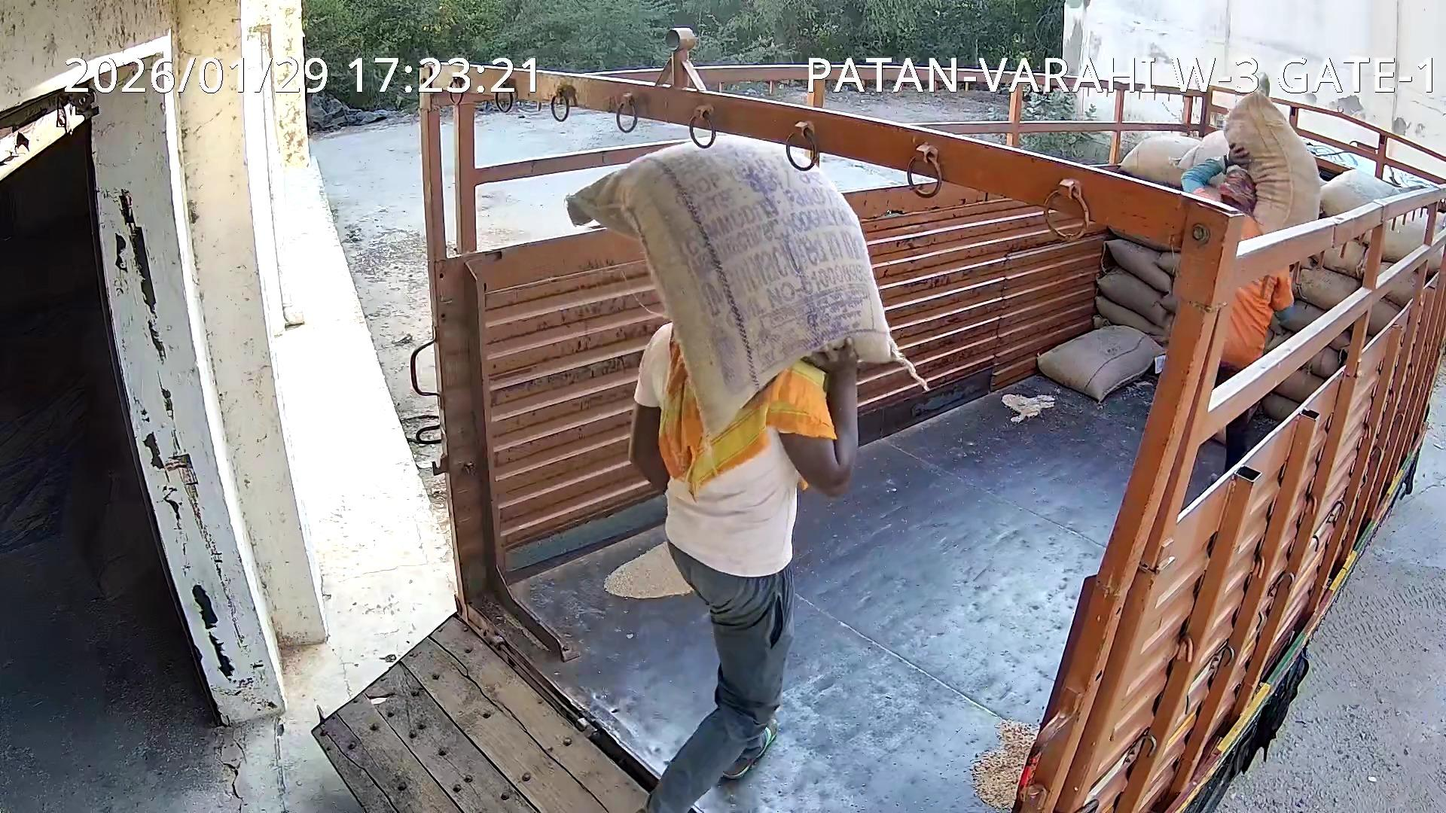Sack: (567, 136, 902, 433)
